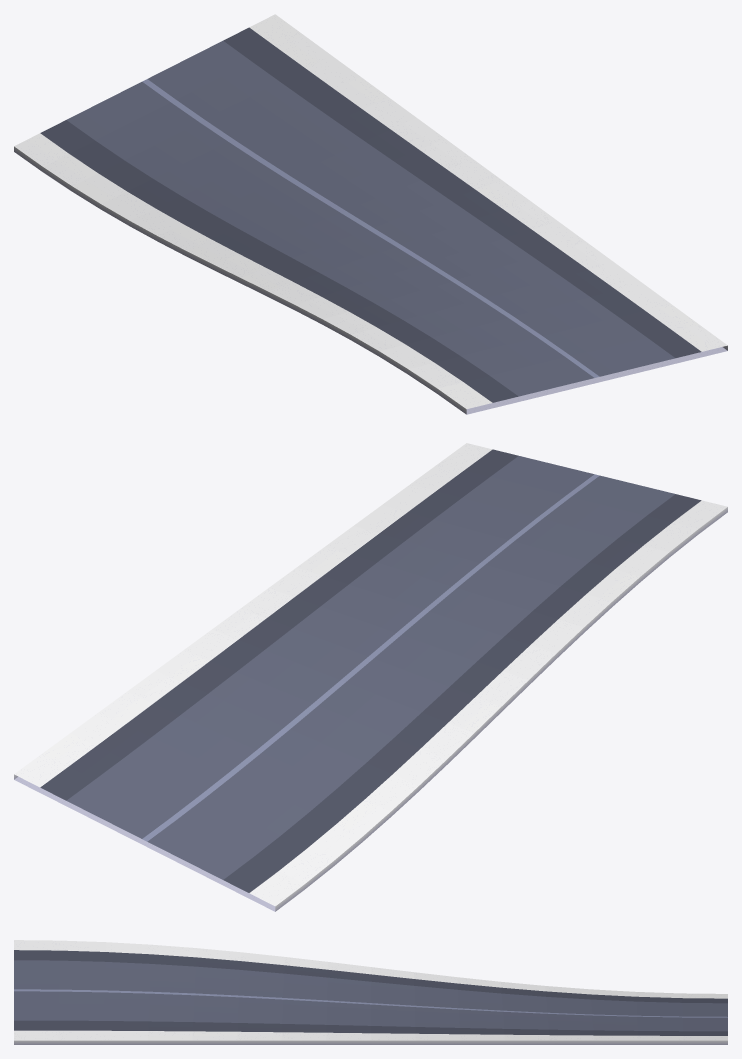
File: road-Straight-Flat-HalfBankedLeft-Down1-Center-Size3.glb
3 renders of one model, top to bottom at view 1: azimuth 30°, elevation 25°; view 2: azimuth 150°, elevation 25°; view 3: azimuth 270°, elevation 25°, orthographic. The views are drawn at different scales.
Parts seen in each view (by area): view 1: road-Straight-Flat-HalfBankedLeft-Down1-Center-Size3; view 2: road-Straight-Flat-HalfBankedLeft-Down1-Center-Size3; view 3: road-Straight-Flat-HalfBankedLeft-Down1-Center-Size3.
Boxes of the visible parts, box(x1,y1,x2,y2) form: road-Straight-Flat-HalfBankedLeft-Down1-Center-Size3: box(14, 14, 727, 414); road-Straight-Flat-HalfBankedLeft-Down1-Center-Size3: box(14, 443, 727, 911); road-Straight-Flat-HalfBankedLeft-Down1-Center-Size3: box(14, 940, 727, 1044).
Bounding box in the file's own units: 1 × 0.27 × 3.
Materials: 1 (1 with a texture image).
